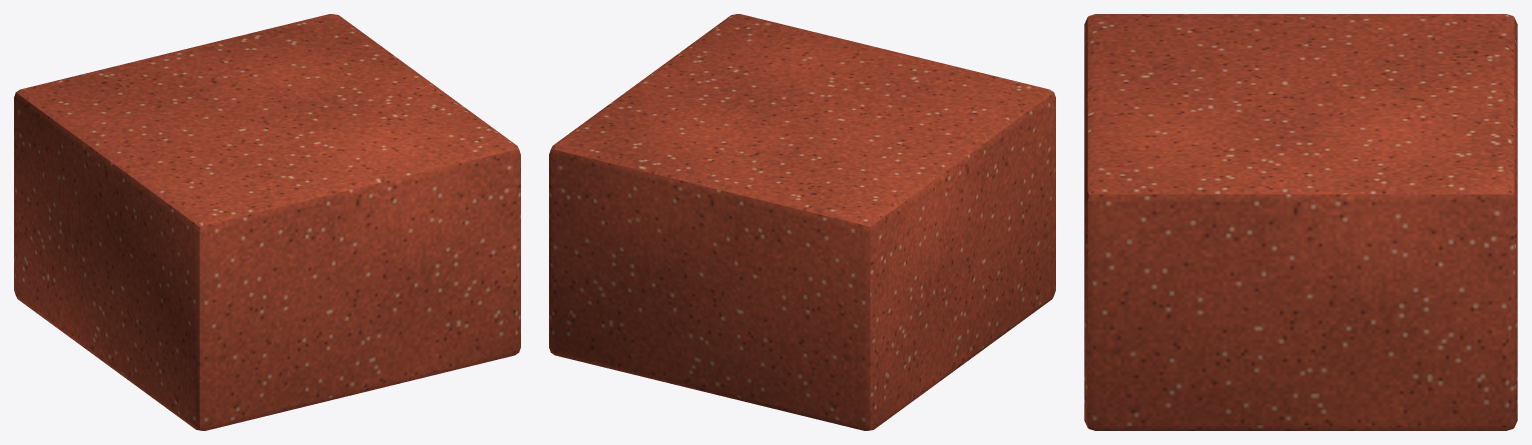
File: brick_half.gltf
3 renders of one model, left to right at view 1: azimuth 30°, elevation 25°; view 2: azimuth 150°, elevation 25°; view 3: azimuth 270°, elevation 25°, orthographic. The views are drawn at different scales.
Parts seen in each view (by area): view 1: brick_half; view 2: brick_half; view 3: brick_half.
Part boxes in pixels (x1=…): brick_half: x1=14, y1=14, x2=520, y2=430; brick_half: x1=549, y1=14, x2=1055, y2=430; brick_half: x1=1084, y1=14, x2=1517, y2=430.
Size of the model in its own units: 0.115 by 0.071 by 0.115.
1 material, 1 textured.
